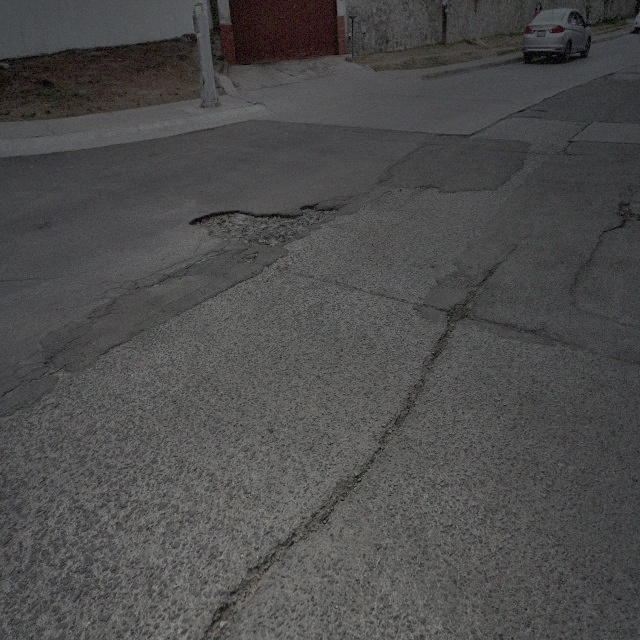pothole: (190, 196, 338, 247), (616, 197, 632, 222)
